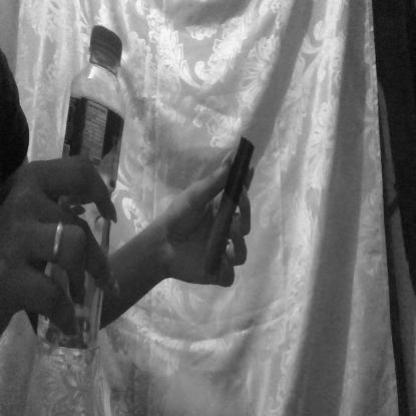Plastic Bottle: (26, 23, 126, 373)
